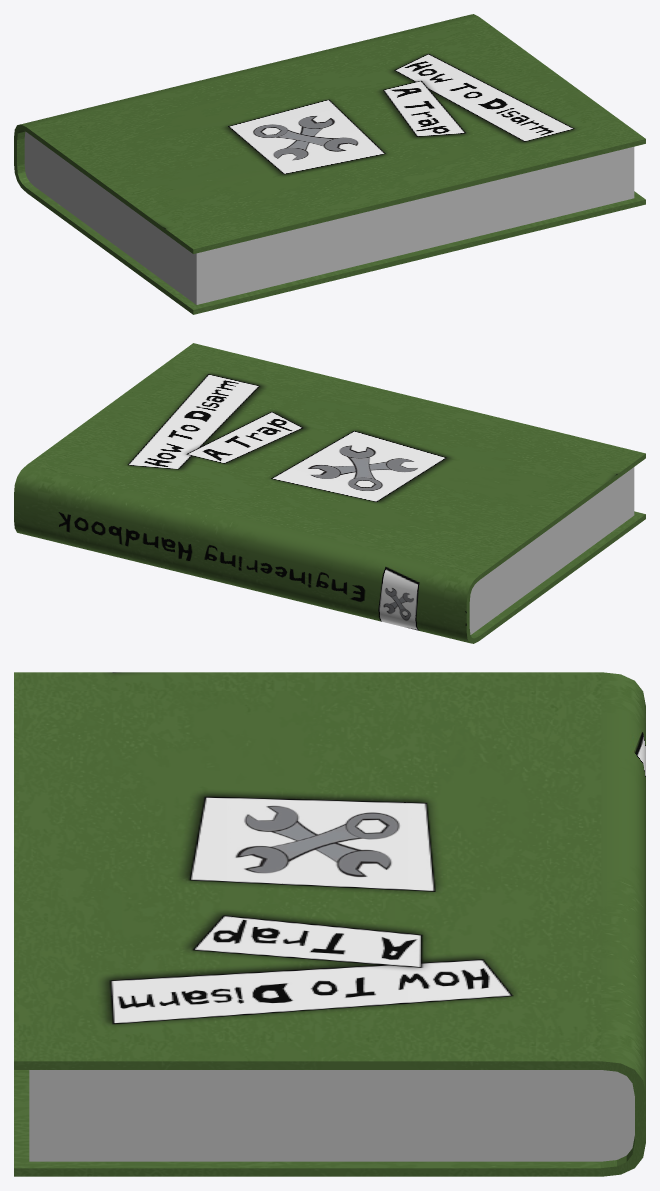
File: book 5.fbx
The picture shows the model from 3 angles, top to bottom: view 1: azimuth 30°, elevation 25°; view 2: azimuth 150°, elevation 25°; view 3: azimuth 270°, elevation 25°; orthographic projection. The views are drawn at different scales.
Parts seen in each view (by area): view 1: Box001; view 2: Box001; view 3: Box001.
Part boxes in pixels (x1,y1,x2,y2): Box001: (14, 14, 645, 314); Box001: (14, 343, 645, 643); Box001: (14, 672, 645, 1176).
Size of the model in its own units: 56.35 by 7.8 by 38.68.
